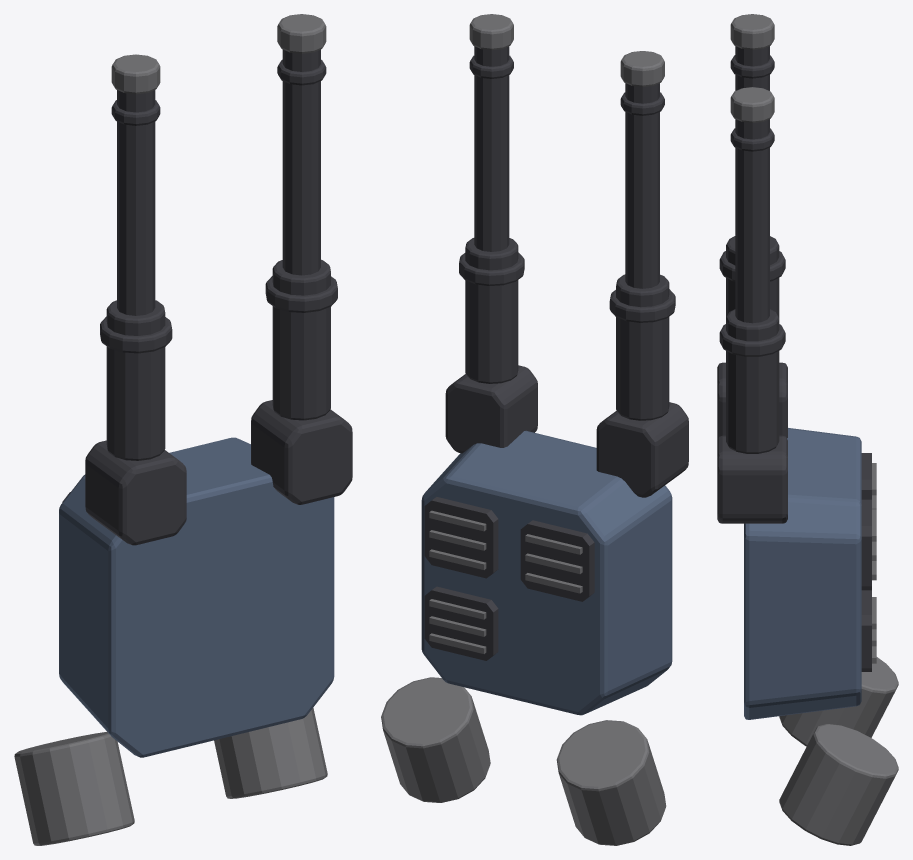
File: recon_accurate_booster.glb
3 renders of one model, left to right at view 1: azimuth 30°, elevation 25°; view 2: azimuth 150°, elevation 25°; view 3: azimuth 270°, elevation 25°, orthographic. The views are drawn at different scales.
Parts seen in each view (by area): view 1: Backpack, Nozzle1, Mast2, Mast, Mast1, Mast3, MastBase1, MastBase, Nozzle, MastTip, MastTip1; view 2: Backpack, Nozzle1, Nozzle, Mast2, Mast, Mast1, Mast3, MastBase1, MastBase, Grille1, Grille, Grille2 (+2 smaller); view 3: Backpack, Nozzle, Mast, Mast1, MastBase, Nozzle1, Mast2, Mast3, MastTip, MastTip1, MastBase1, Grille (+2 smaller).
Part boxes in pixels (<box>): Backpack: <box>59,437,334,757</box>; Nozzle1: <box>14,732,134,845</box>; Mast2: <box>100,300,172,460</box>; Mast: <box>265,259,337,420</box>; Mast1: <box>277,49,326,275</box>; Mast3: <box>111,90,160,315</box>; MastBase1: <box>85,440,186,545</box>; MastBase: <box>251,400,352,504</box>; Nozzle: <box>214,708,327,798</box>; MastTip: <box>277,14,326,53</box>; MastTip1: <box>111,54,160,94</box>; Backpack: <box>421,430,672,715</box>; Nozzle1: <box>556,720,666,845</box>; Nozzle: <box>381,677,490,802</box>; Mast2: <box>609,274,675,420</box>; Mast: <box>459,238,524,383</box>; Mast1: <box>469,46,513,251</box>; Mast3: <box>620,83,664,288</box>; MastBase1: <box>596,402,688,497</box>; MastBase: <box>445,365,537,453</box>; Grille1: <box>520,520,594,601</box>; Grille: <box>424,497,498,578</box>; Grille2: <box>424,586,498,660</box>; Backpack: <box>744,428,861,719</box>; Nozzle: <box>779,724,898,845</box>; Mast: <box>719,309,785,453</box>; Mast1: <box>730,119,774,323</box>; MastBase: <box>717,435,787,523</box>; Nozzle1: <box>779,657,898,746</box>; Mast2: <box>719,236,785,318</box>; Mast3: <box>730,46,774,90</box>; MastTip: <box>730,87,774,122</box>; MastTip1: <box>730,14,774,49</box>; MastBase1: <box>717,362,787,439</box>; Grille: <box>861,499,871,590</box>.
Bounding box in the file's own units: 1.88 × 5.17 × 1.16.
